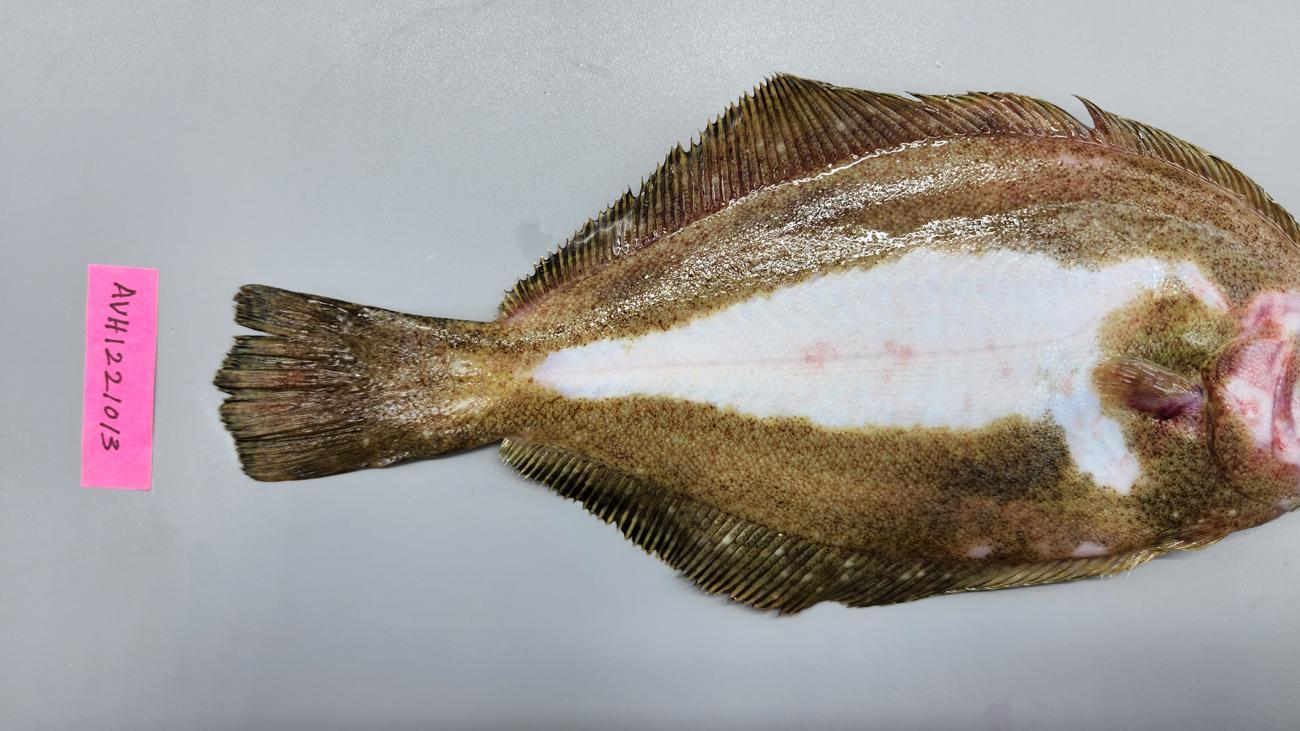VIDYH: (833, 455, 1241, 563), (1088, 274, 1244, 474), (372, 315, 524, 460), (790, 338, 845, 382), (876, 327, 922, 370)
VIFCH: (217, 337, 370, 478)
